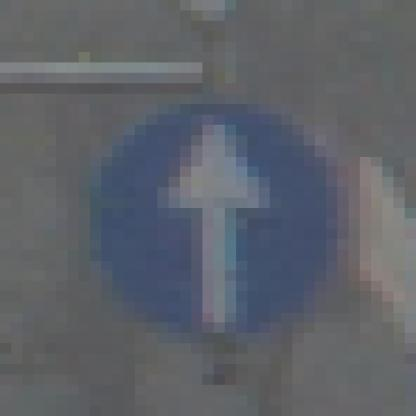AheadOnly: (57, 63, 361, 365)
